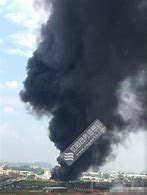smoke: (18, 1, 147, 173)
